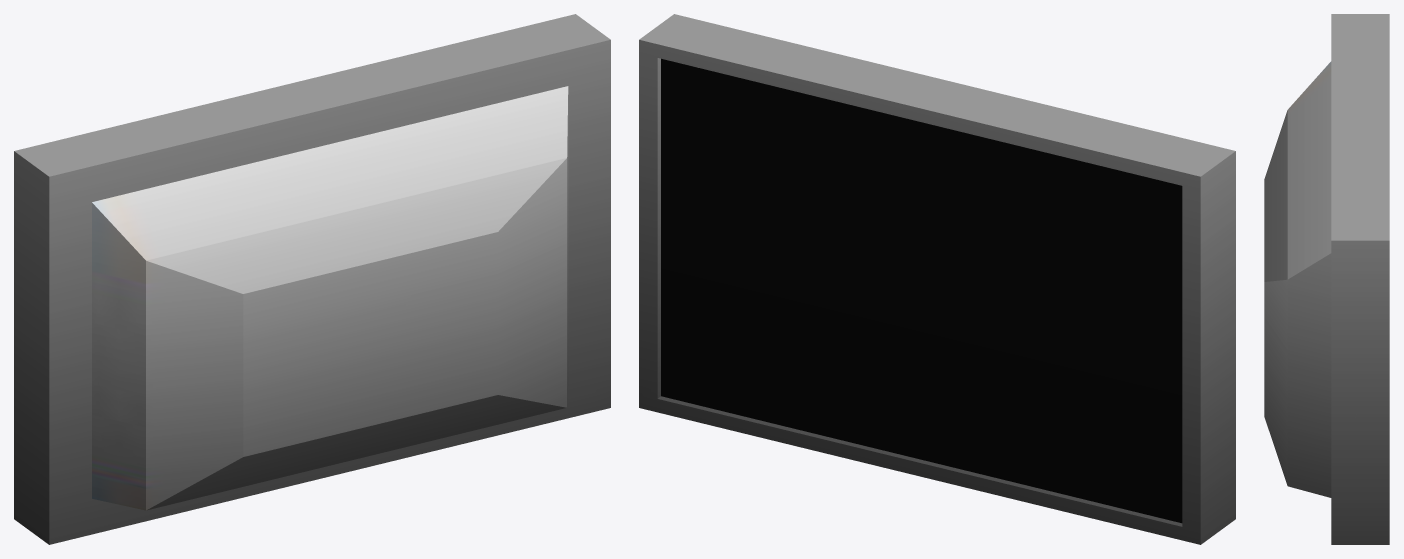
3 renders of one model, left to right at view 1: azimuth 30°, elevation 25°; view 2: azimuth 150°, elevation 25°; view 3: azimuth 270°, elevation 25°, orthographic. The views are drawn at different scales.
Visible parts, largest first — view 1: TV; view 2: TV; view 3: TV.
Part boxes in pixels (box(x1,y1,x2,y2)): TV: box(14, 14, 610, 544); TV: box(639, 14, 1235, 544); TV: box(1264, 14, 1389, 544).
Bounding box in the file's own units: 113 × 70.75 × 26.38.
Materials: 1 (1 with a texture image).
